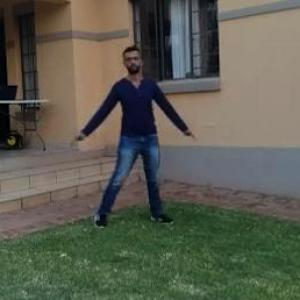land: (84, 52, 185, 213)
